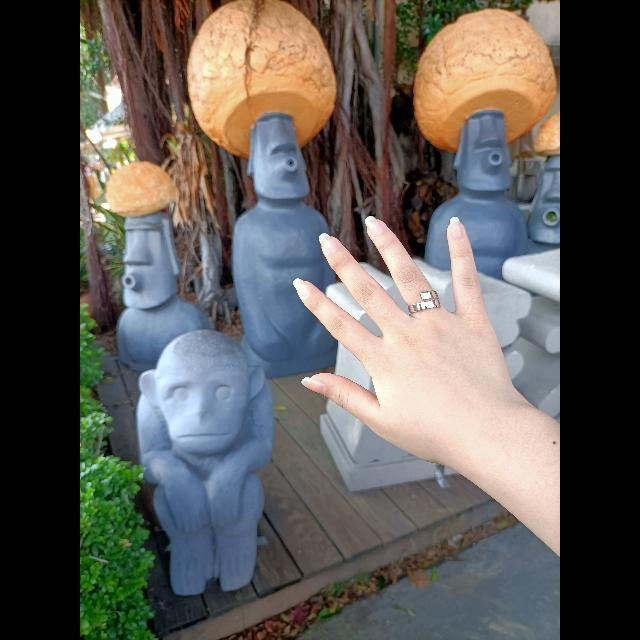bare_hand: (293, 212, 544, 499)
